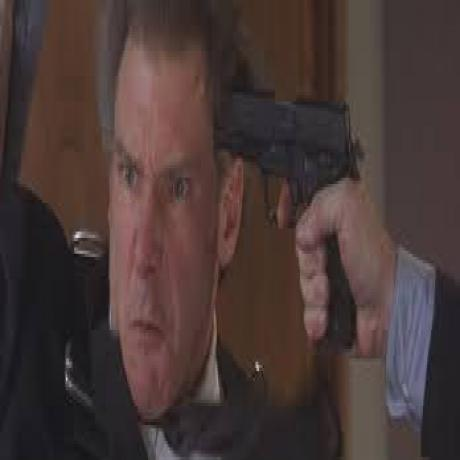Guns: (226, 82, 366, 342)
